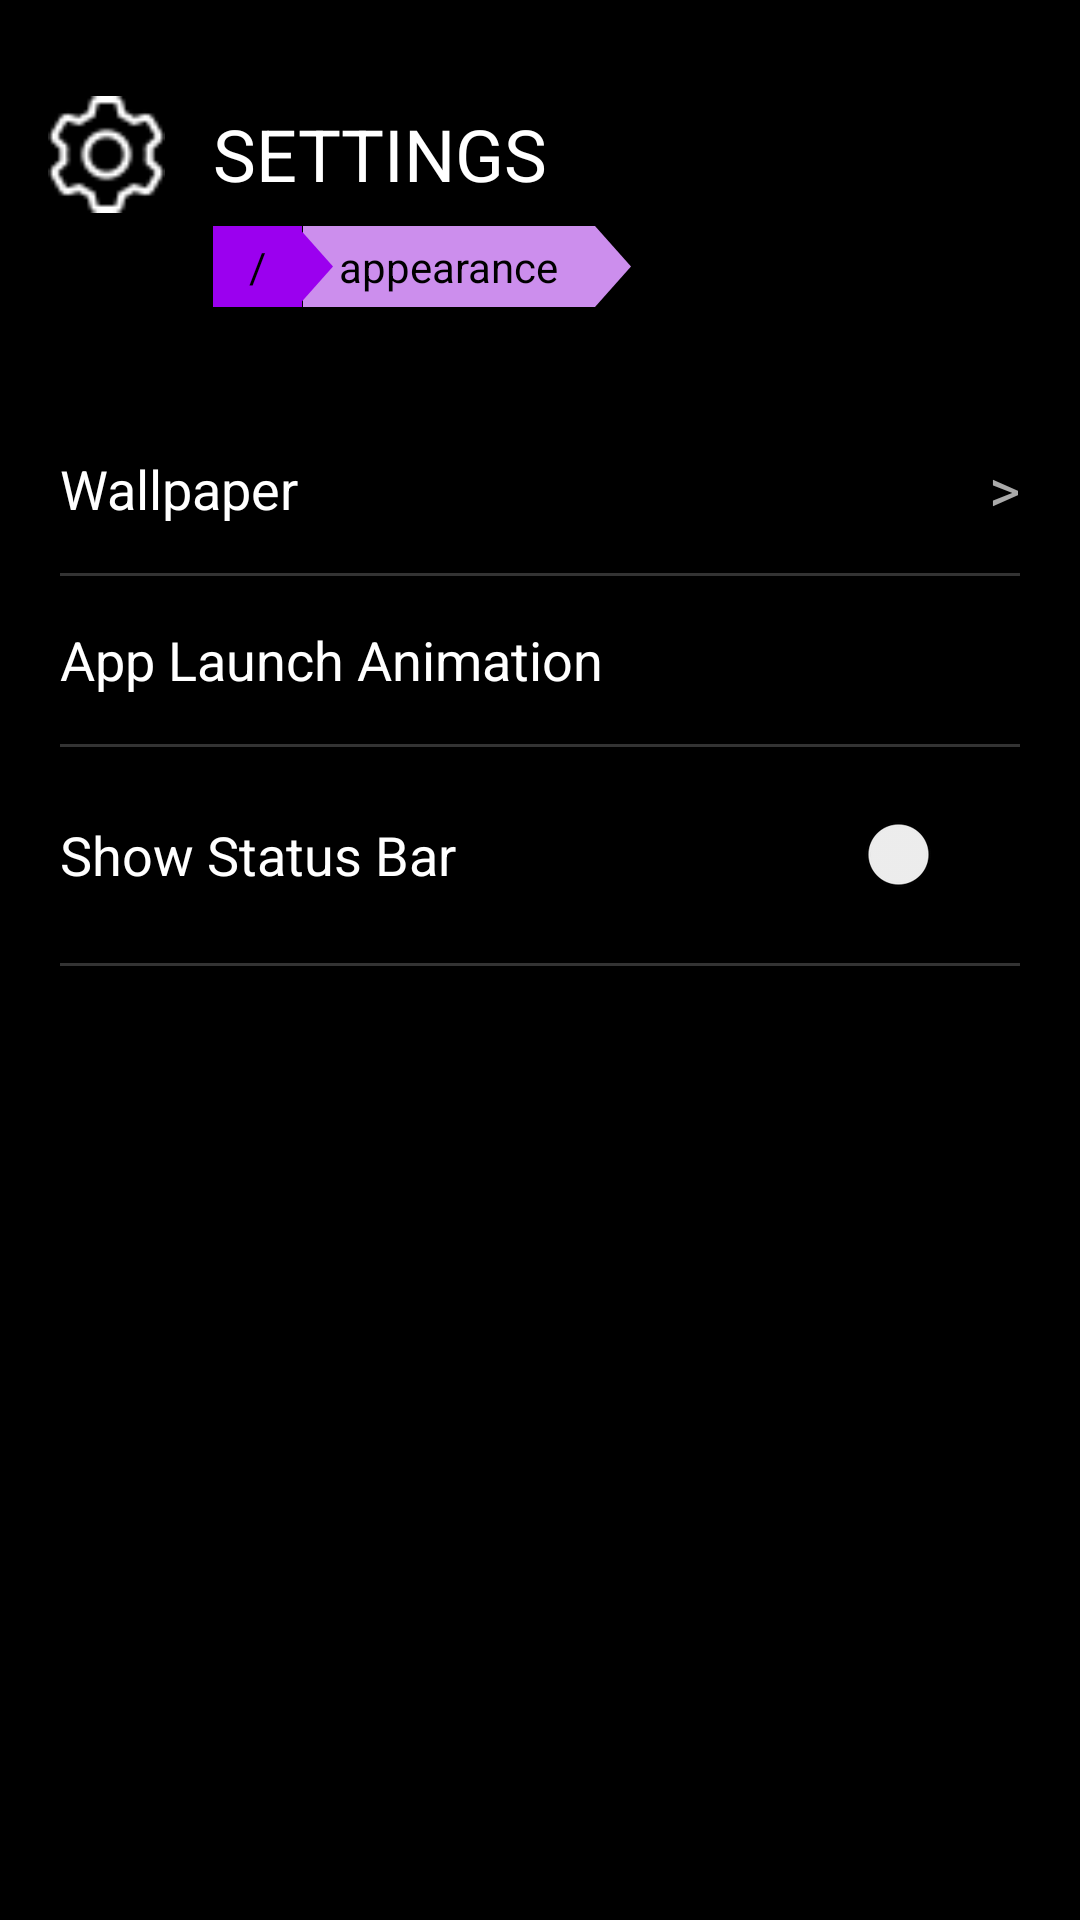

Screen size 1080*1920. Icon name, then its center in pixels as [x,y]:
cogwheel: [106,154]
